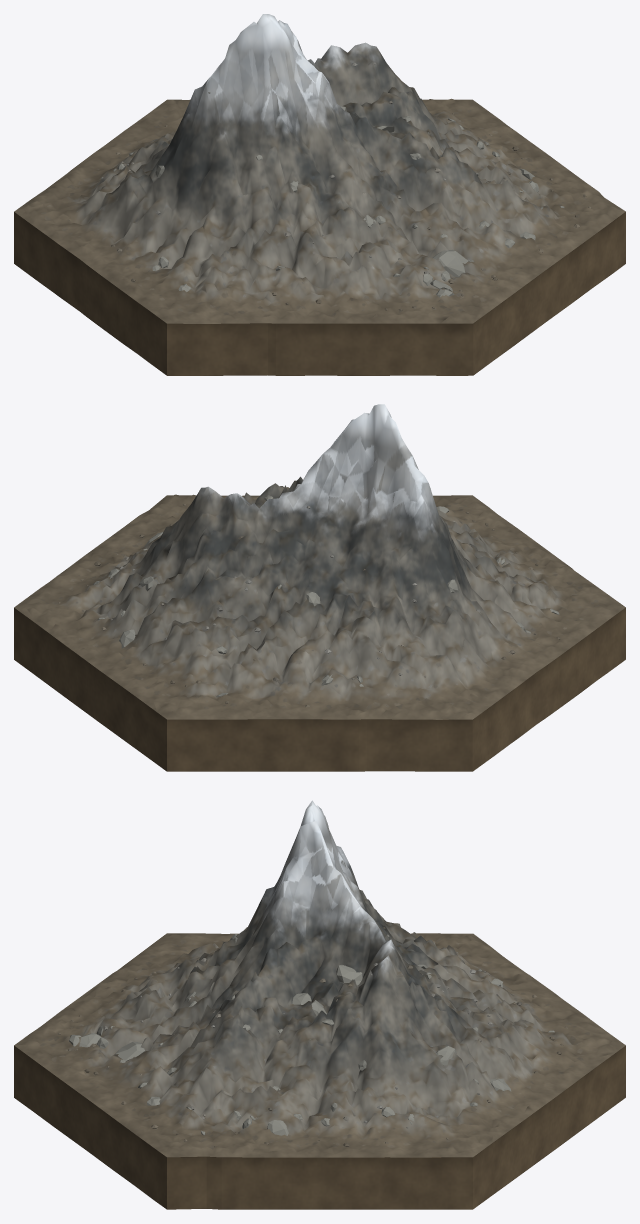
The model's file is Stone.glb.
The picture shows the model from 3 angles, top to bottom: view 1: azimuth 30°, elevation 25°; view 2: azimuth 150°, elevation 25°; view 3: azimuth 270°, elevation 25°; orthographic projection.
Visible parts, largest first — view 1: Stone_Ground_Web, Stone_Decorations_Web, Ground_Aggregates; view 2: Stone_Ground_Web, Stone_Decorations_Web, Ground_Aggregates; view 3: Stone_Ground_Web, Stone_Decorations_Web, Ground_Aggregates.
Part boxes in pixels (x1,y1,x2,y2): Stone_Ground_Web: (14,14,625,375); Stone_Decorations_Web: (113,105,564,297); Ground_Aggregates: (101,62,591,310); Stone_Ground_Web: (14,404,625,771); Stone_Decorations_Web: (93,495,559,697); Ground_Aggregates: (58,504,560,707); Stone_Ground_Web: (14,800,625,1209); Stone_Decorations_Web: (69,934,554,1135); Ground_Aggregates: (57,927,568,1147).
Size of the model in its own units: 1.65 by 0.9211 by 1.91.
Materials: 4 (4 with a texture image).
